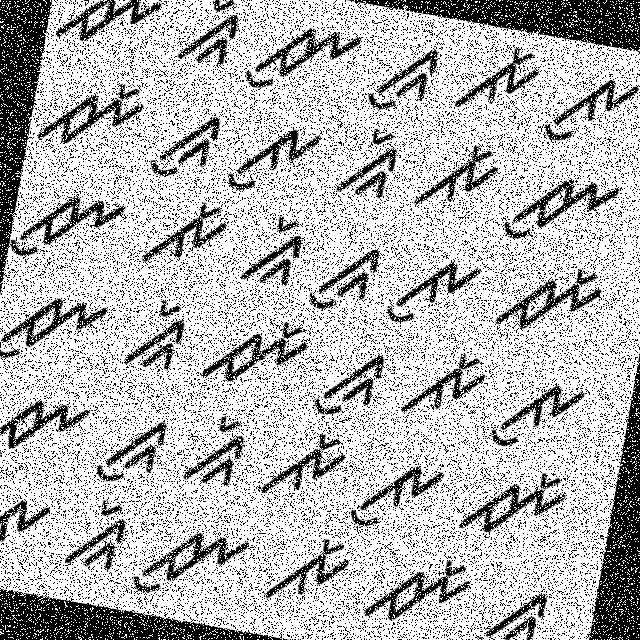ar: (252, 419, 354, 514), (446, 35, 546, 131), (390, 336, 494, 428), (258, 523, 355, 618), (409, 132, 507, 225), (138, 190, 234, 280)
aw: (222, 107, 327, 209), (486, 366, 592, 466), (537, 58, 639, 161), (380, 234, 485, 334), (346, 448, 449, 542), (0, 483, 61, 583)
nggar: (323, 116, 407, 216), (234, 200, 316, 298), (170, 0, 254, 83), (116, 288, 191, 378), (175, 406, 250, 493), (62, 490, 136, 578)
nggaw: (140, 92, 230, 194), (307, 332, 391, 426), (362, 30, 444, 124), (304, 234, 386, 320), (88, 409, 166, 496), (466, 575, 554, 639)
njar: (449, 450, 581, 555), (34, 59, 150, 162), (194, 302, 315, 400), (488, 252, 608, 346), (358, 543, 475, 637), (51, 0, 170, 64)
njaw: (242, 6, 368, 115), (496, 152, 626, 256), (127, 516, 256, 612), (9, 176, 129, 276), (0, 280, 114, 378), (0, 383, 95, 479)
